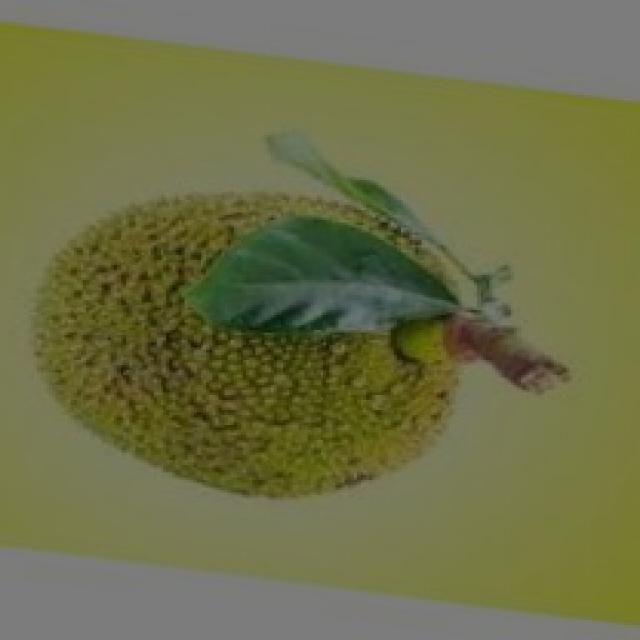Fruit: (3, 162, 415, 538)
